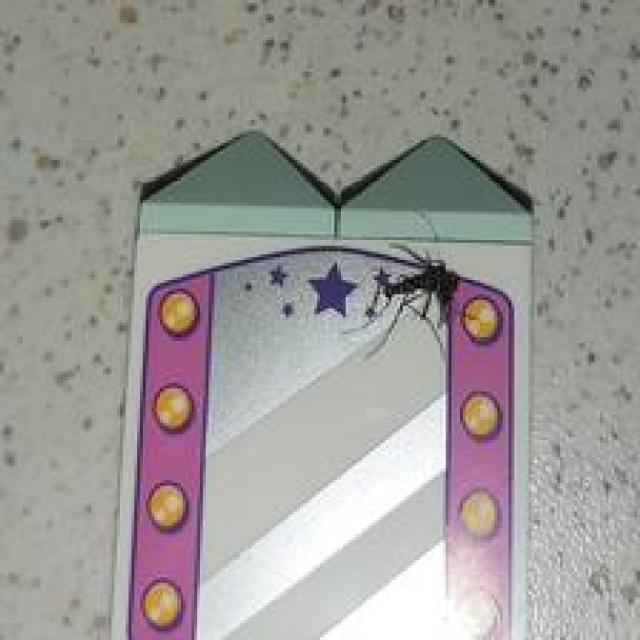Aedes albopictus: (105, 128, 537, 640)
